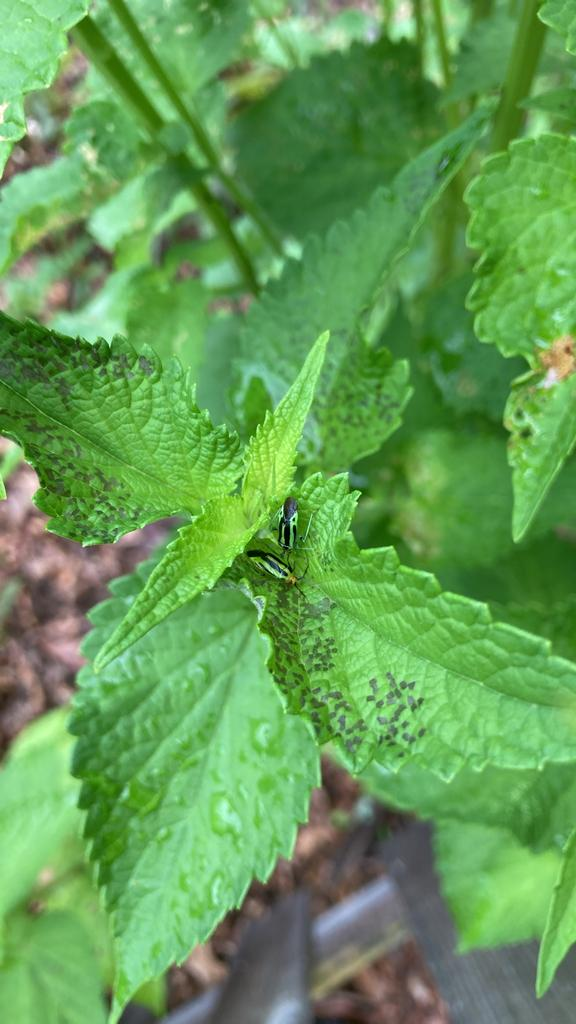plant_bugs: (225, 535, 323, 601), (258, 483, 328, 569)
